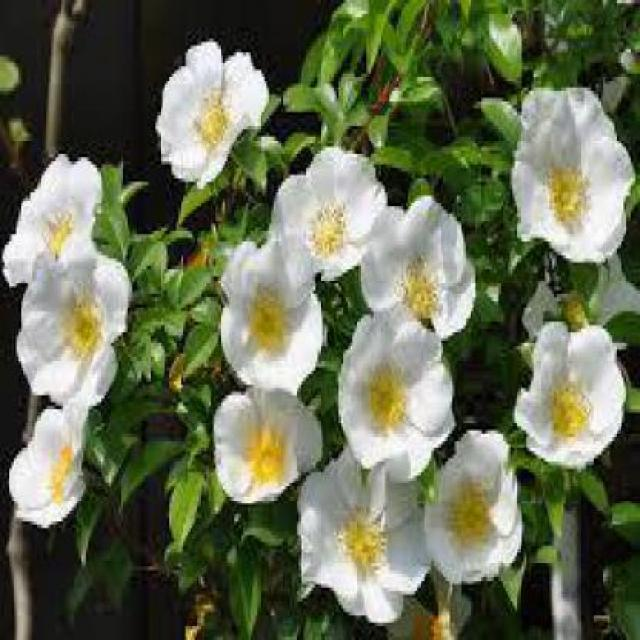flower: (289, 428, 448, 618), (335, 293, 460, 479), (267, 129, 398, 297), (511, 84, 632, 265), (15, 239, 140, 412), (504, 311, 630, 475), (354, 189, 481, 346), (213, 227, 327, 399), (404, 425, 528, 583), (151, 37, 283, 177), (208, 369, 330, 509), (7, 146, 108, 280), (10, 386, 101, 526)
